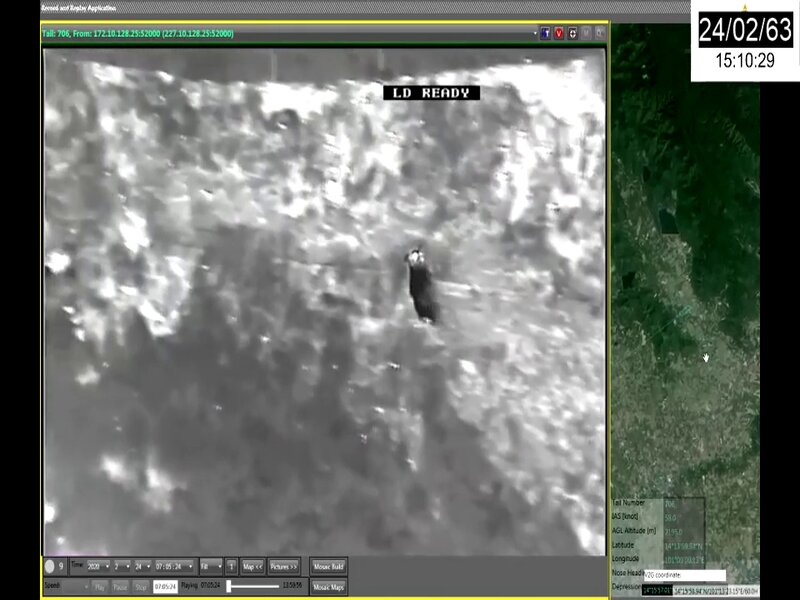Fire: (482, 60, 607, 295)
